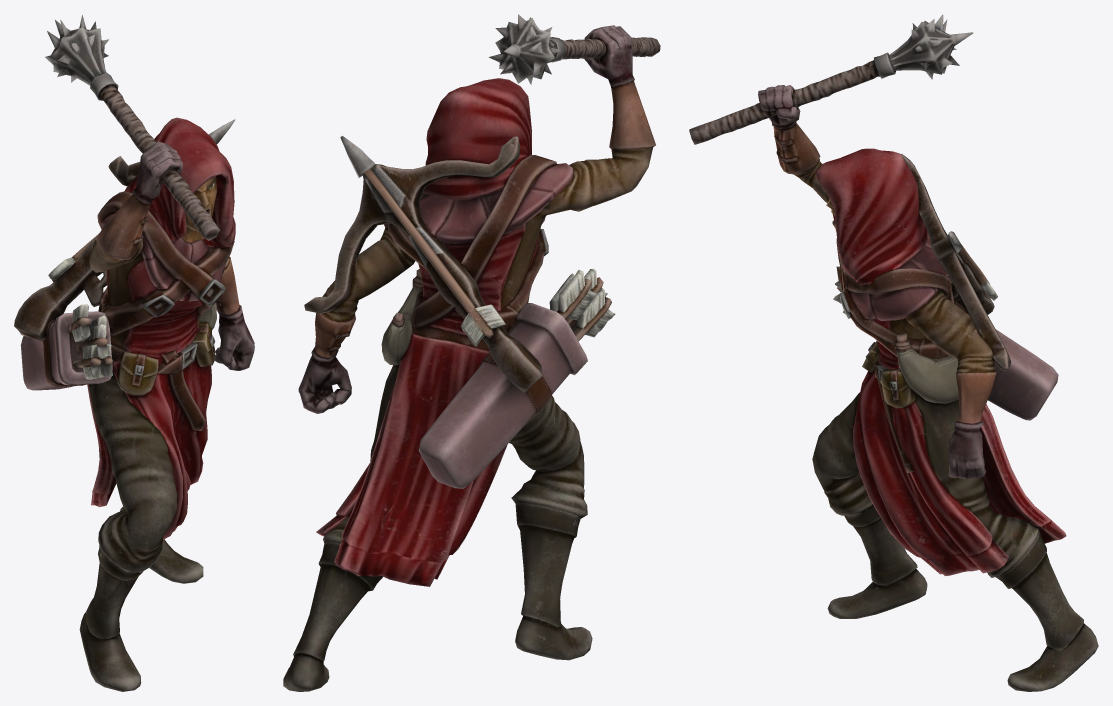
File: MZ4250 - Thug Female 01.glb
3 views of the same model, side by side, from view 1: azimuth 30°, elevation 25°; view 2: azimuth 150°, elevation 25°; view 3: azimuth 270°, elevation 25° (orthographic). The views are drawn at different scales.
Visible parts, largest first — view 1: ThugFemale01; view 2: ThugFemale01; view 3: ThugFemale01.
Part boxes in pixels (bbox=[...]): ThugFemale01: bbox=[14, 15, 254, 691]; ThugFemale01: bbox=[283, 14, 660, 691]; ThugFemale01: bbox=[689, 14, 1098, 691].
Bounding box in the file's own units: 0.4606 × 1.15 × 0.717.
1 material, 1 textured.
